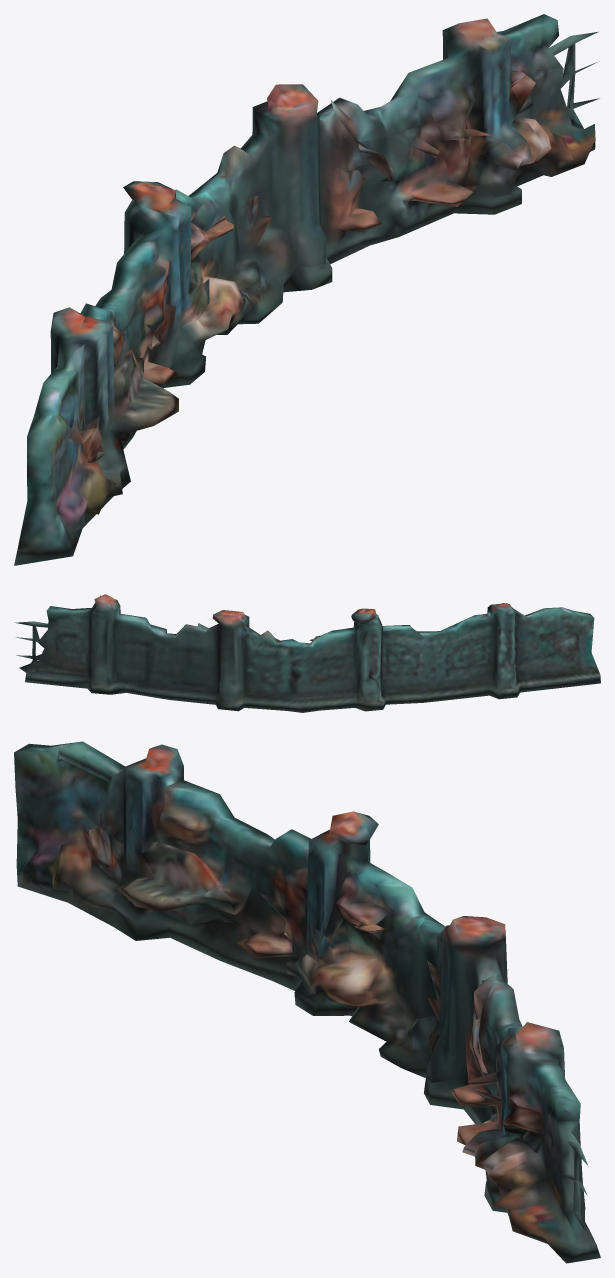
File: Pared_Izquierda.glb
3 views of the same model, one above another, from view 1: azimuth 30°, elevation 25°; view 2: azimuth 150°, elevation 25°; view 3: azimuth 270°, elevation 25° (orthographic). The views are drawn at different scales.
Visible parts, largest first — view 1: Pared Izquierda; view 2: Pared Izquierda; view 3: Pared Izquierda.
Boxes of the visible parts, x1,y1,x2,y2 form: Pared Izquierda: (14,14,599,565); Pared Izquierda: (15,594,600,712); Pared Izquierda: (14,741,600,1263).
Bounding box in the file's own units: 0.373 × 0.0781 × 0.2209.
1 material, 1 textured.
